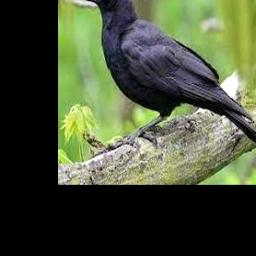Crow: (78, 0, 256, 145)
